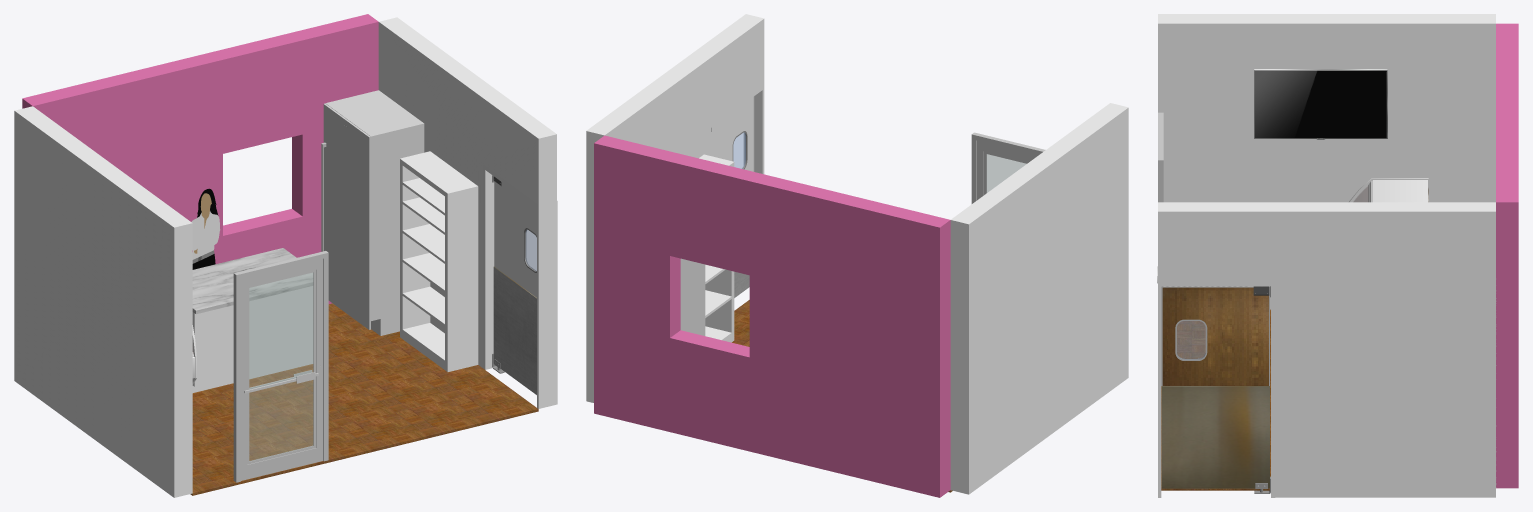
File: maya_store.glb
3 views of the same model, side by side, from view 1: azimuth 30°, elevation 25°; view 2: azimuth 150°, elevation 25°; view 3: azimuth 270°, elevation 25° (orthographic). The views are drawn at different scales.
Visible parts, largest first — view 1: Material2 (×23), Material3 (×3); view 2: Material2 (×11), Material3 (×2); view 3: Material2 (×8), Material3 (×3).
Part boxes in pixels (<box>): Material2 (×23): <box>14,14,557,497</box>; Material3 (×3): <box>250,182,536,460</box>; Material2 (×11): <box>586,14,1128,497</box>; Material3 (×2): <box>711,97,1025,192</box>; Material2 (×8): <box>1158,14,1518,497</box>; Material3 (×3): <box>1161,69,1387,488</box>.
Size of the model in its own units: 166 by 113 by 128.
Materials: 34 (9 with a texture image).
